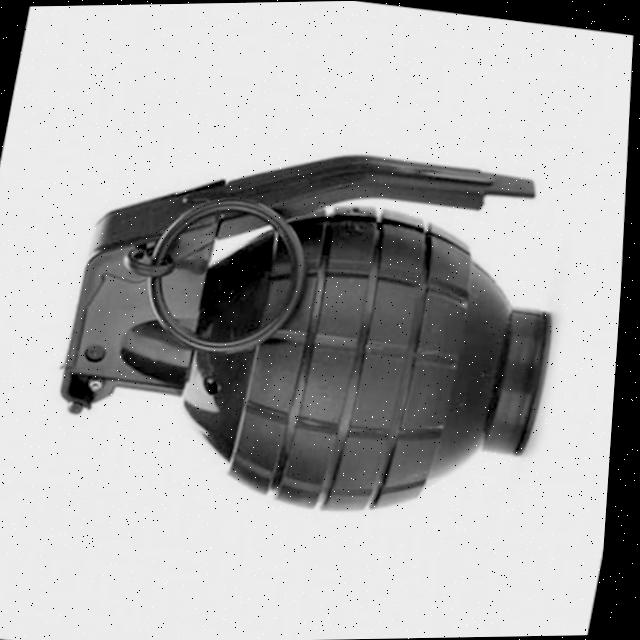grenade: (38, 84, 608, 543)
